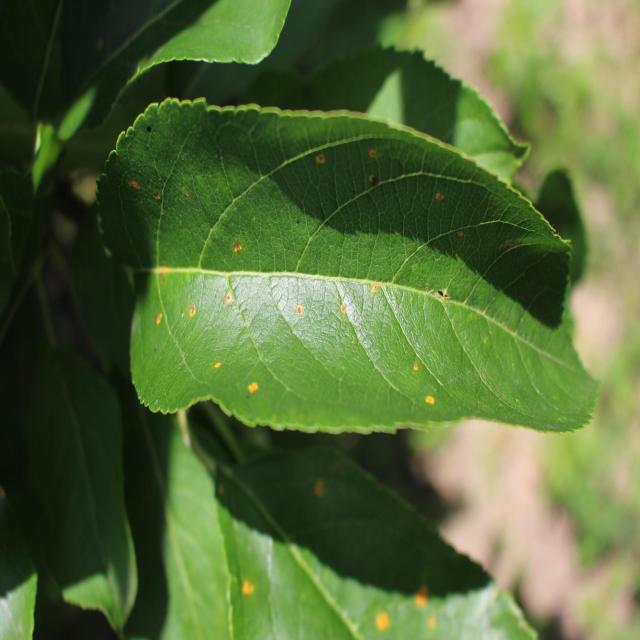Rust: (235, 566, 270, 606), (226, 227, 250, 264), (336, 289, 358, 329), (360, 267, 389, 297), (428, 178, 450, 216), (207, 359, 233, 387), (244, 378, 269, 406), (421, 388, 439, 426), (217, 286, 240, 315), (293, 295, 309, 336), (184, 295, 203, 327), (312, 148, 332, 177), (148, 188, 170, 214), (360, 144, 388, 163), (406, 359, 421, 388), (128, 172, 141, 202), (152, 312, 170, 330)
